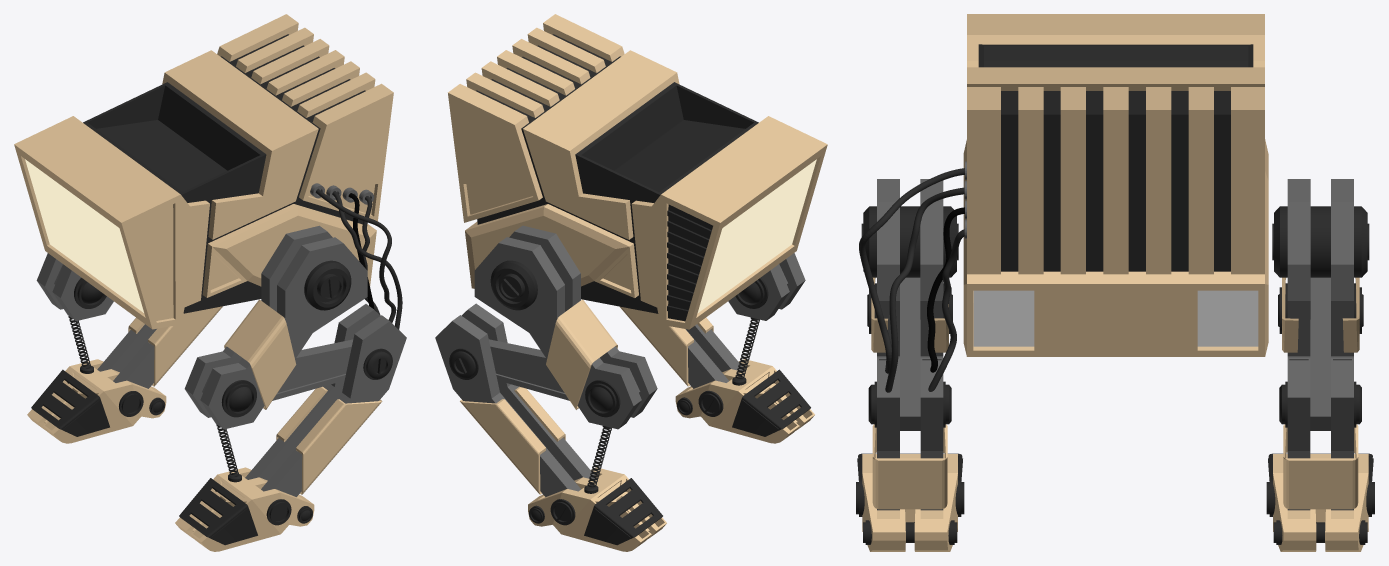
Rendered from compressed-robot.glb.
The picture shows the model from 3 angles, left to right: view 1: azimuth 30°, elevation 25°; view 2: azimuth 150°, elevation 25°; view 3: azimuth 270°, elevation 25°; orthographic projection. The views are drawn at different scales.
Visible parts, largest first — view 1: Cube.005, Cube.006, Cube.011, Cube.009, Cube.017, Plane.004, Plane.005, Cube, Cube.008, Plane, Plane.003, Cube.010 (+12 smaller); view 2: Cube.005, Cube.006, Cube.003, Cube.001, Cube.017, Plane.002, Plane.001, Cube.007, Cube.008, Cube, Plane.003, Plane (+12 smaller); view 3: Cube.005, Cube.006, Cube.003, Cube.011, Cube.001, Cube, Cube.008, Cube.009, Plane.001, Plane.005, Cylinder.004, Cube.002 (+12 smaller).
Part boxes in pixels (x1,y1,x2,y2): Cube.005: [14, 14, 393, 329]; Cube.006: [83, 34, 365, 313]; Cube.011: [184, 225, 367, 429]; Cube.009: [245, 304, 406, 496]; Cube.017: [25, 159, 143, 312]; Plane.004: [224, 299, 296, 409]; Plane.005: [276, 386, 382, 494]; Cube: [27, 359, 166, 443]; Cube.008: [175, 467, 314, 551]; Plane: [31, 369, 109, 436]; Plane.003: [179, 478, 257, 545]; Cube.010: [202, 339, 353, 400]; Cube.005: [448, 14, 827, 329]; Cube.006: [476, 34, 758, 313]; Cube.003: [474, 225, 657, 429]; Cube.001: [435, 303, 594, 496]; Cube.017: [697, 159, 816, 313]; Plane.002: [546, 299, 617, 409]; Plane.001: [460, 386, 565, 494]; Cube.007: [667, 204, 712, 321]; Cube.008: [675, 359, 814, 443]; Cube: [528, 467, 666, 551]; Plane.003: [732, 369, 810, 436]; Plane: [584, 478, 662, 545]; Cube.005: [963, 14, 1268, 356]; Cube.006: [978, 44, 1253, 271]; Cube.003: [1287, 179, 1353, 355]; Cube.011: [877, 179, 943, 355]; Cube.001: [1287, 356, 1353, 510]; Cube: [1273, 454, 1368, 551]; Cube.008: [862, 454, 957, 551]; Cube.009: [877, 356, 943, 510]; Plane.001: [1283, 424, 1358, 509]; Plane.005: [872, 424, 947, 509]; Cylinder.004: [1272, 206, 1369, 277]; Cube.002: [1310, 277, 1330, 430].
Bounding box in the file's own units: 2.49 × 3.34 × 2.95.
